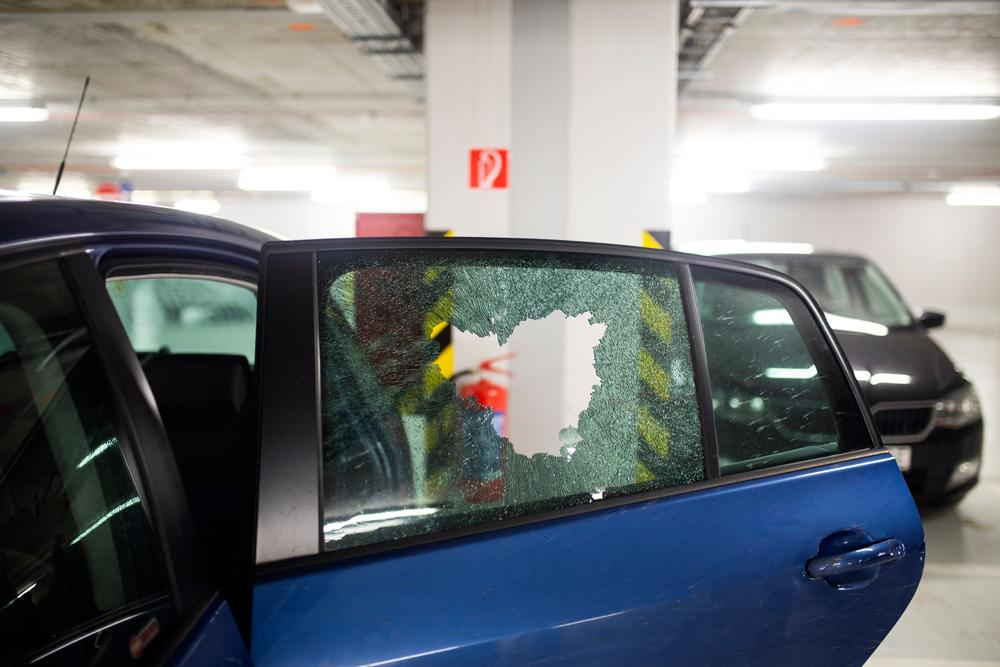glass shatter: (318, 250, 704, 549)
